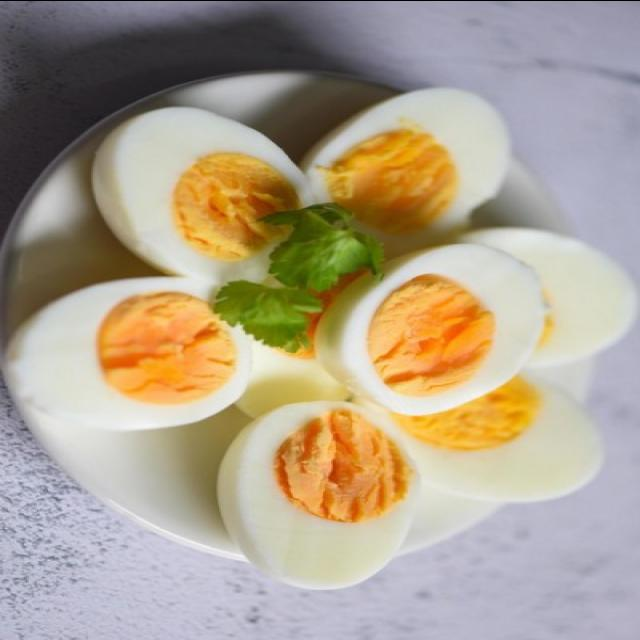telur rebus: (90, 106, 326, 283), (315, 241, 544, 415), (214, 399, 422, 589), (5, 276, 251, 429), (298, 86, 507, 234), (374, 368, 606, 501)
